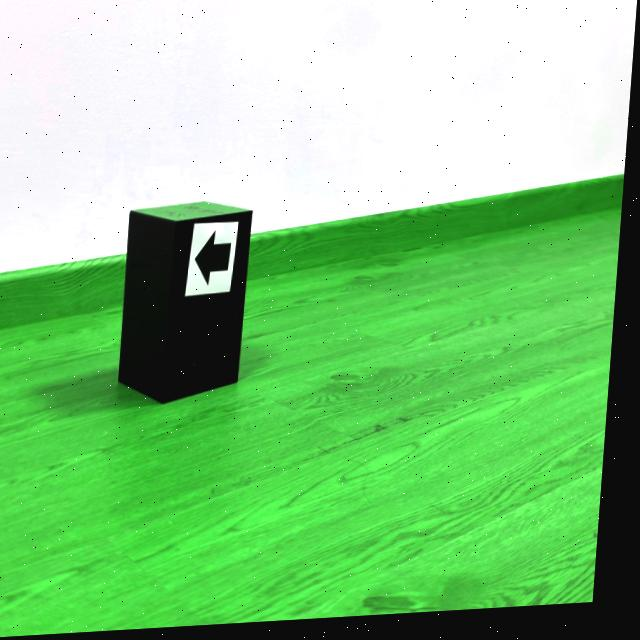LEFT: (199, 234, 235, 288)
